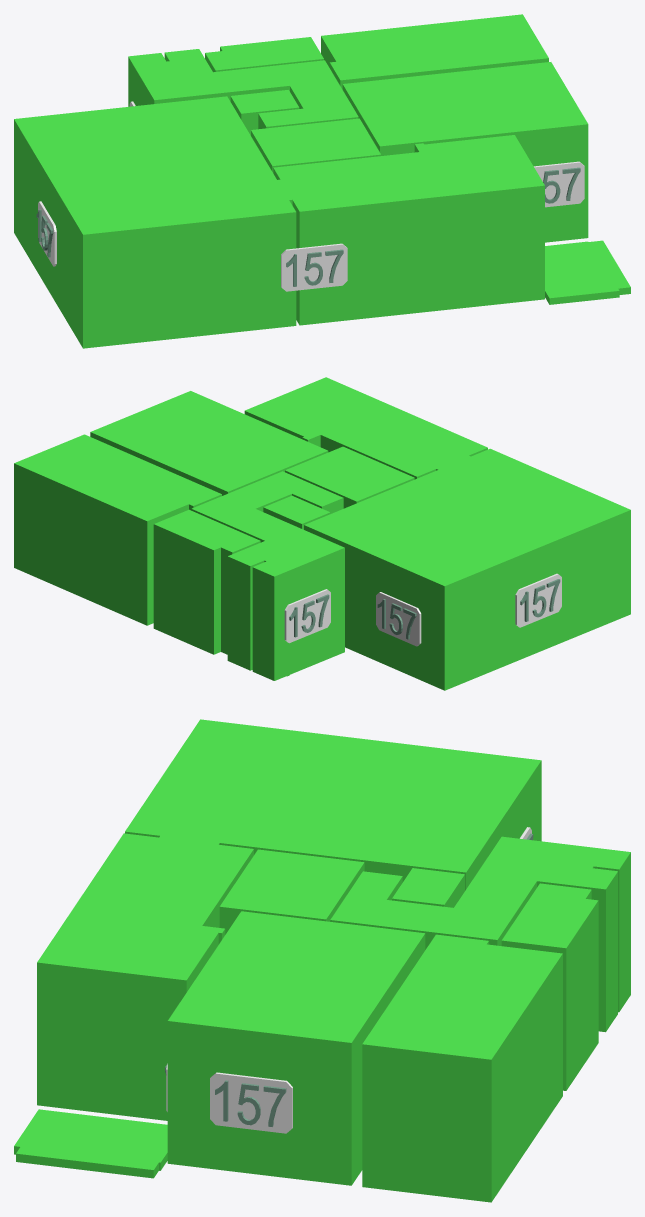
The picture shows the model from 3 angles, top to bottom: view 1: azimuth 30°, elevation 25°; view 2: azimuth 150°, elevation 25°; view 3: azimuth 270°, elevation 25°; orthographic projection. The views are drawn at different scales.
Visible parts, largest first — view 1: g_1, g_0, g_3, g_4, g_7, g_2, g_8, g_5, g_28, g_6, g_24, g_20; view 2: g_1, g_4, g_7, g_3, g_0, g_5, g_2, g_20, g_12, g_16, g_6; view 3: g_3, g_1, g_4, g_0, g_7, g_5, g_8, g_2, g_32, g_6.
Boxes of the visible parts, x1,y1,x2,y2 form: g_1: [14, 96, 296, 348]; g_0: [273, 135, 544, 325]; g_3: [342, 62, 588, 242]; g_4: [321, 14, 548, 89]; g_7: [128, 49, 358, 129]; g_2: [251, 118, 381, 172]; g_8: [545, 240, 630, 304]; g_5: [205, 37, 323, 72]; g_28: [281, 243, 347, 291]; g_6: [230, 90, 299, 135]; g_24: [534, 161, 584, 207]; g_20: [38, 201, 56, 266]; g_1: [304, 448, 630, 690]; g_4: [14, 434, 221, 625]; g_7: [191, 471, 344, 680]; g_3: [90, 391, 328, 495]; g_0: [244, 377, 487, 479]; g_5: [153, 509, 260, 654]; g_2: [285, 446, 414, 508]; g_20: [515, 573, 561, 627]; g_12: [284, 589, 330, 643]; g_16: [376, 592, 421, 646]; g_6: [263, 495, 330, 529]; g_3: [167, 911, 425, 1185]; g_1: [125, 719, 541, 890]; g_4: [362, 934, 562, 1202]; g_0: [37, 833, 253, 1120]; g_7: [330, 836, 630, 1032]; g_5: [501, 883, 598, 1090]; g_8: [14, 1109, 167, 1178]; g_2: [219, 849, 364, 934]; g_32: [210, 1072, 292, 1133]; g_6: [392, 868, 464, 907].
Size of the model in its own units: 13.16 by 2.74 by 10.08.
